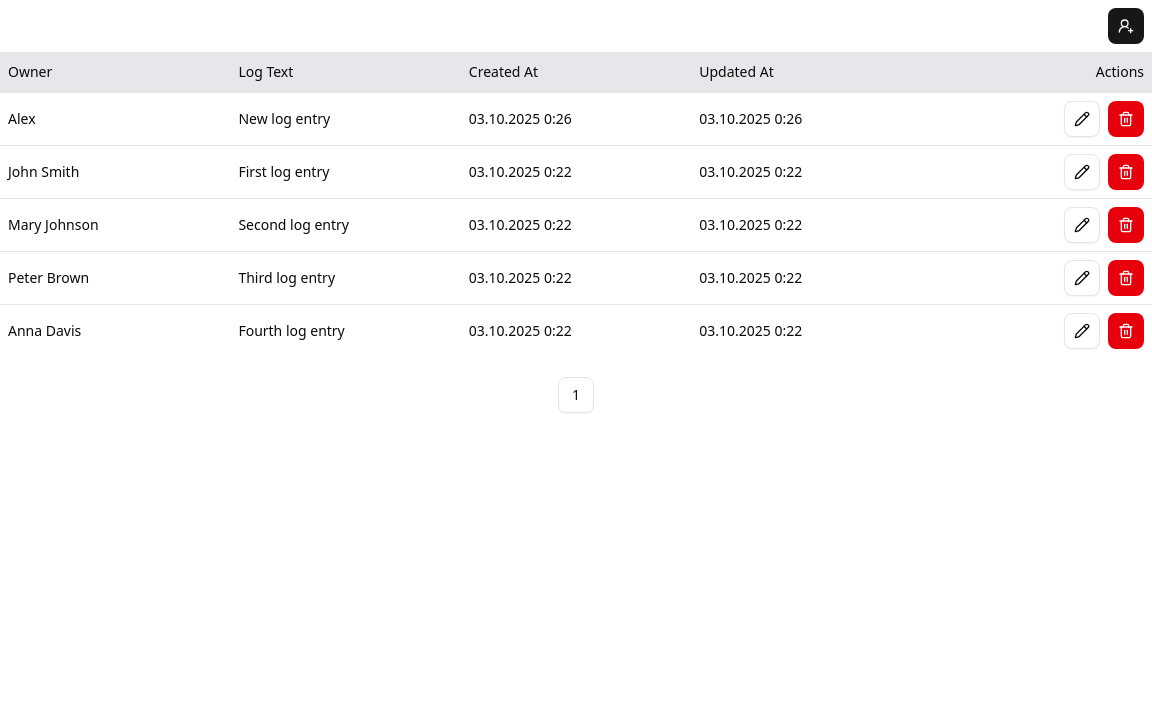
CRUD Logs › Delete Log › Deletes a log from the table
Expected: the table with test id "user-table" is shown, [0,52,1151,357]
Expected: the cell with test id "user-table" reads "New log entry", [238,109,330,128]
Click the button with test id "delete-row-button": click(1126, 119) [1108,101,1144,137]
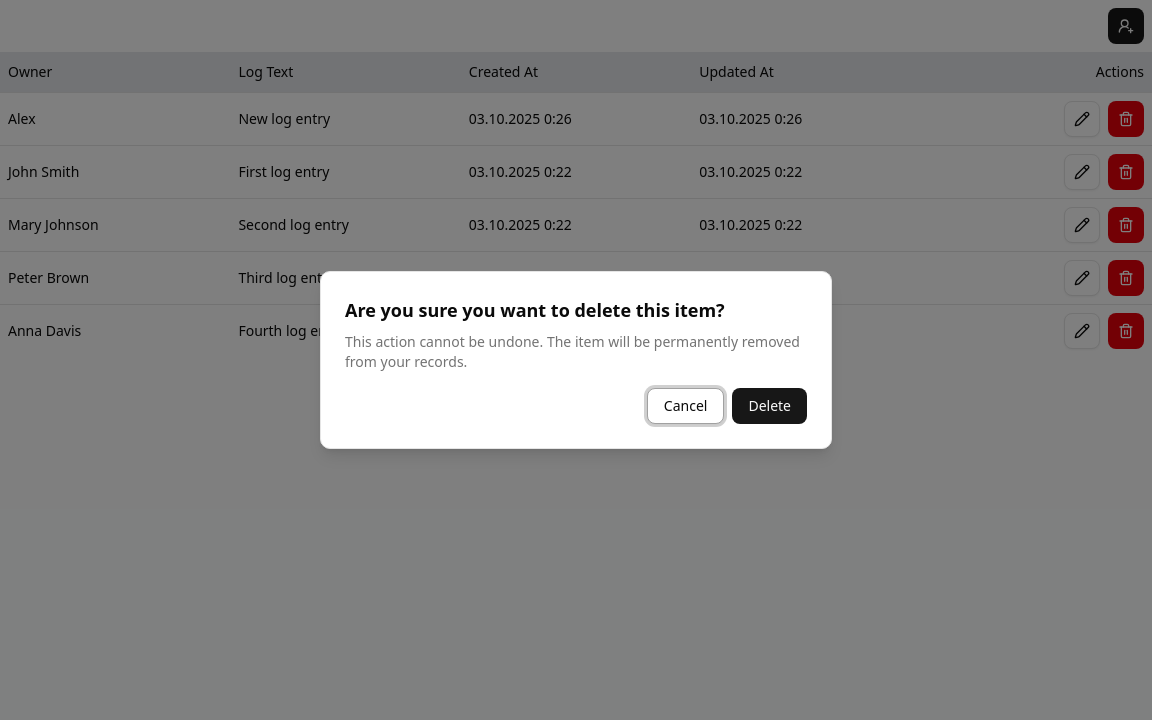
Expected: the button with test id "delete-alert-button" is shown
Click the button with test id "delete-alert-button": click(770, 406) [732,388,807,424]
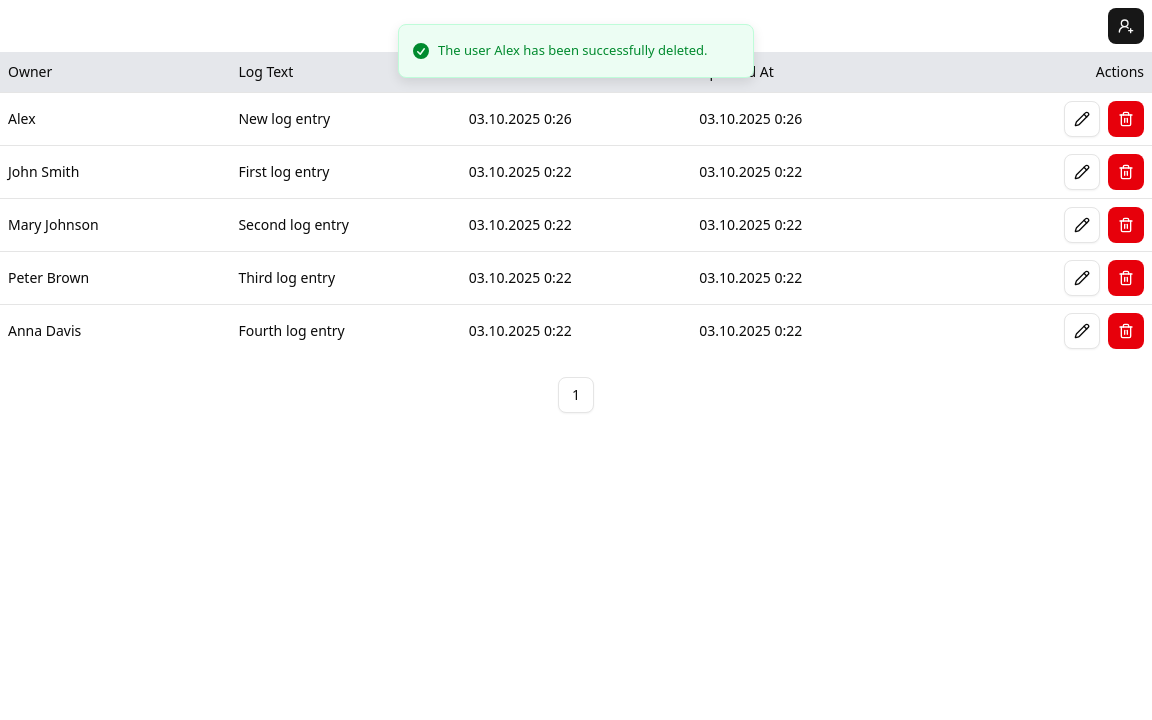
Reload the page
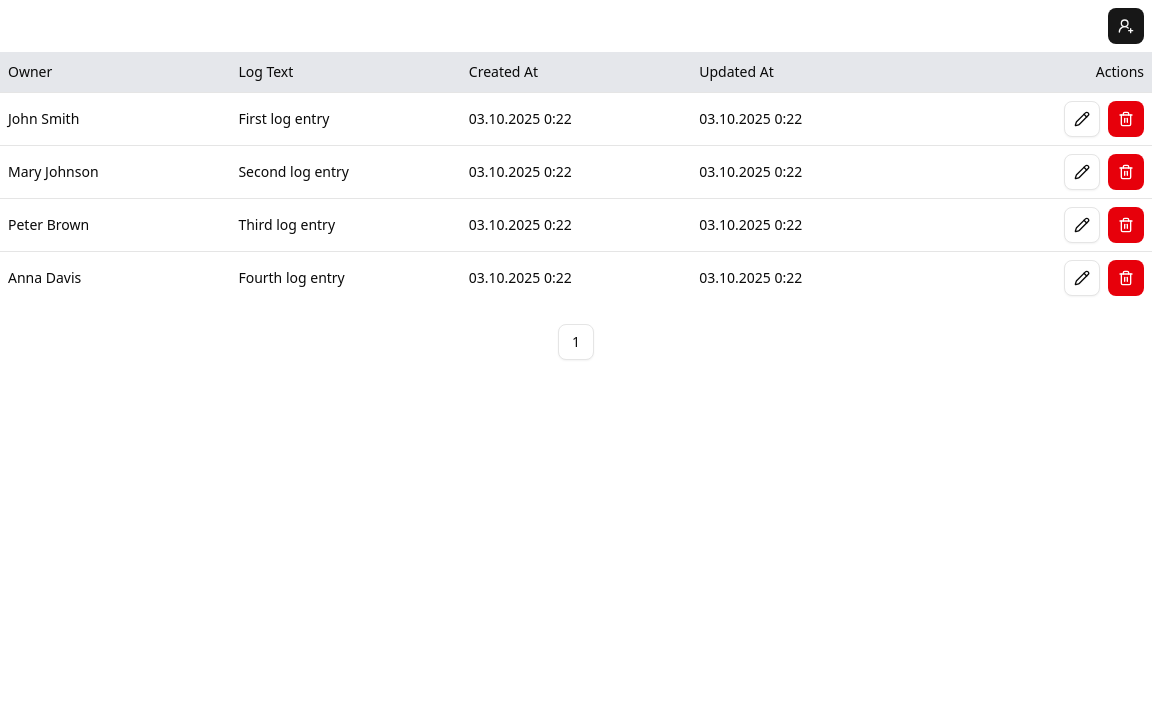
Expected: the cell with test id "user-table" no longer shows "New log entry"
